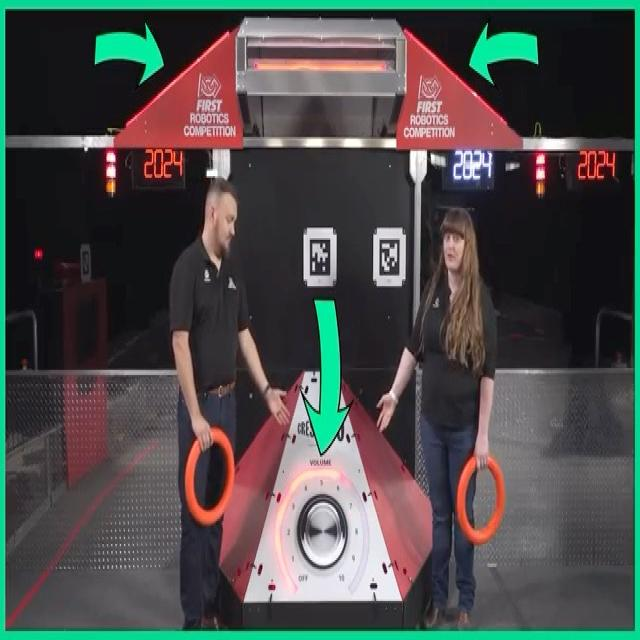note: (185, 428, 236, 526), (455, 453, 506, 545)
